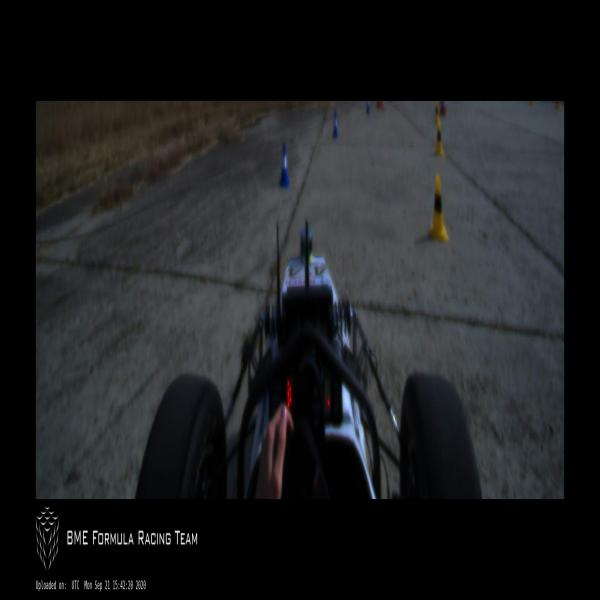blue_cone: (280, 142, 289, 188), (332, 110, 338, 140)
yellow_cone: (428, 175, 449, 243), (435, 121, 444, 156), (434, 101, 439, 124)
